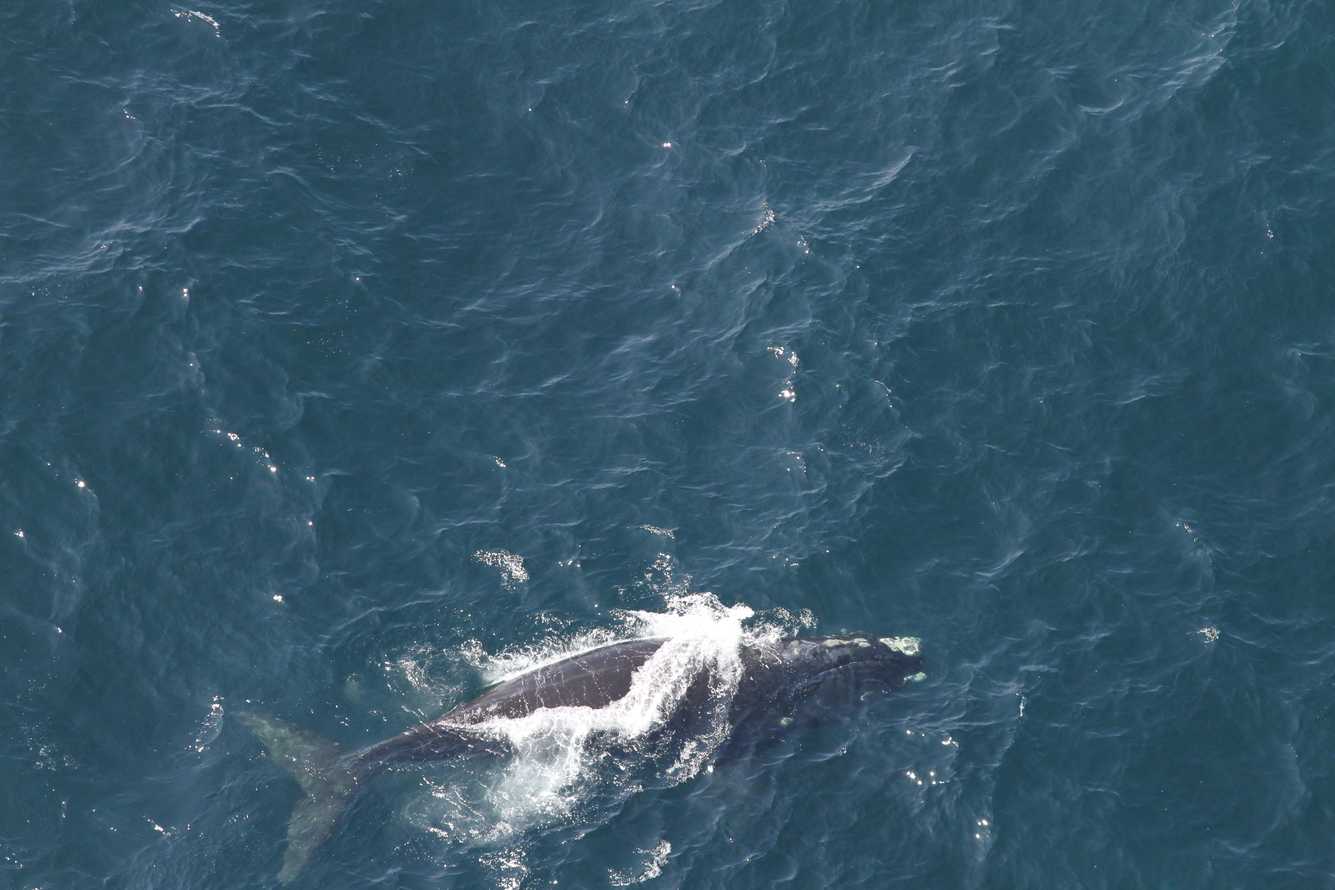whale: (217, 621, 943, 890)
